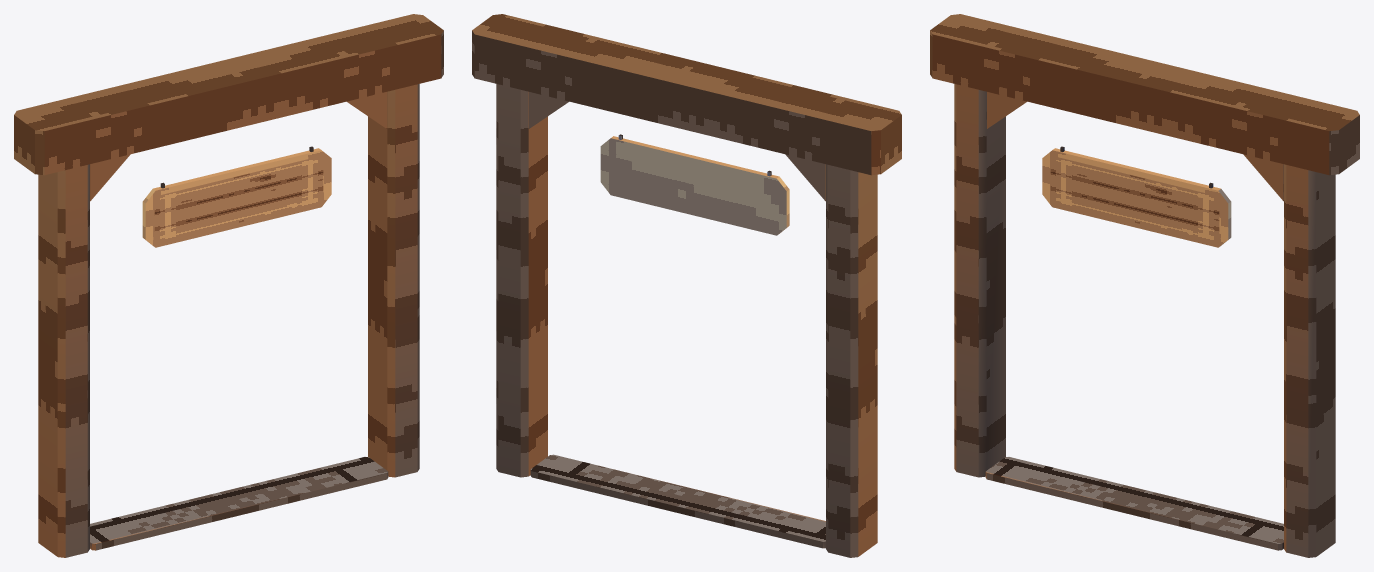
Rendered from wtown.doorway__gate.glb.
3 renders of one model, left to right at view 1: azimuth 30°, elevation 25°; view 2: azimuth 150°, elevation 25°; view 3: azimuth 330°, elevation 25°, orthographic.
Visible parts, largest first — view 1: kit_posts, kit_header, kit_sill, kit_card_panes, kit_sign, kit_corbels; view 2: kit_posts, kit_header, kit_sign, kit_sill, kit_corbels; view 3: kit_posts, kit_header, kit_sill, kit_card_panes, kit_sign, kit_corbels.
Boxes of the visible parts, left/top/right/bottom form: kit_posts: left=38, top=84, right=419, bottom=557; kit_header: left=14, top=14, right=443, bottom=175; kit_sill: left=90, top=457, right=388, bottom=550; kit_card_panes: left=154, top=155, right=323, bottom=242; kit_sign: left=142, top=148, right=331, bottom=247; kit_corbels: left=90, top=92, right=386, bottom=201; kit_posts: left=496, top=84, right=877, bottom=557; kit_header: left=472, top=14, right=901, bottom=175; kit_sign: left=600, top=136, right=789, bottom=235; kit_sill: left=530, top=454, right=825, bottom=548; kit_corbels: left=529, top=92, right=825, bottom=201; kit_posts: left=954, top=84, right=1335, bottom=557; kit_header: left=930, top=14, right=1359, bottom=175; kit_sill: left=985, top=457, right=1283, bottom=550; kit_card_panes: left=1050, top=155, right=1219, bottom=242; kit_sign: left=1042, top=148, right=1231, bottom=247; kit_corbels: left=987, top=92, right=1283, bottom=201.
Bounding box in the file's own units: 3.3 × 3.34 × 0.39.
6 materials, 6 textured.
